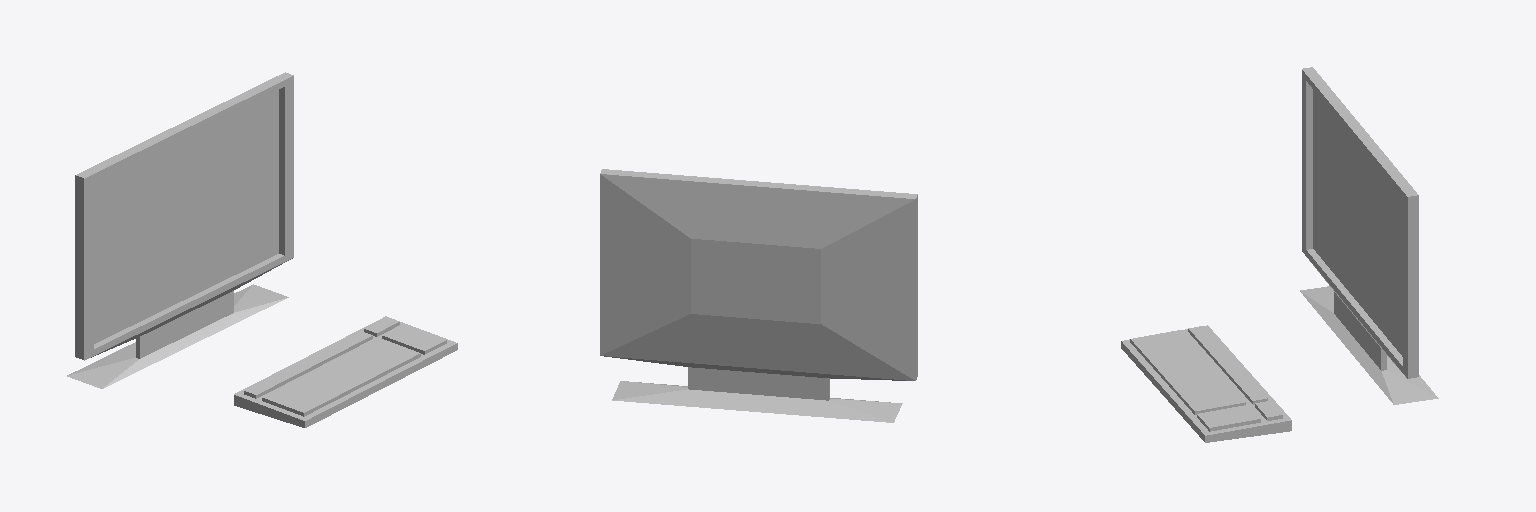
Rendered from Computador2.obj.
The picture shows the model from 3 angles: view 1: azimuth 30°, elevation 25°; view 2: azimuth 150°, elevation 25°; view 3: azimuth 270°, elevation 25°; orthographic projection.
Parts seen in each view (by area): view 1: Cubo.002, Cubo.005; view 2: Cubo.002; view 3: Cubo.002, Cubo.005.
Part boxes in pixels (bbox=[...]): Cubo.002: bbox=[67, 72, 293, 388]; Cubo.005: bbox=[234, 316, 457, 427]; Cubo.002: bbox=[600, 169, 917, 422]; Cubo.002: bbox=[1300, 67, 1438, 404]; Cubo.005: bbox=[1121, 325, 1291, 442].
Bounding box in the file's own units: 0.9438 × 0.5977 × 0.7908.